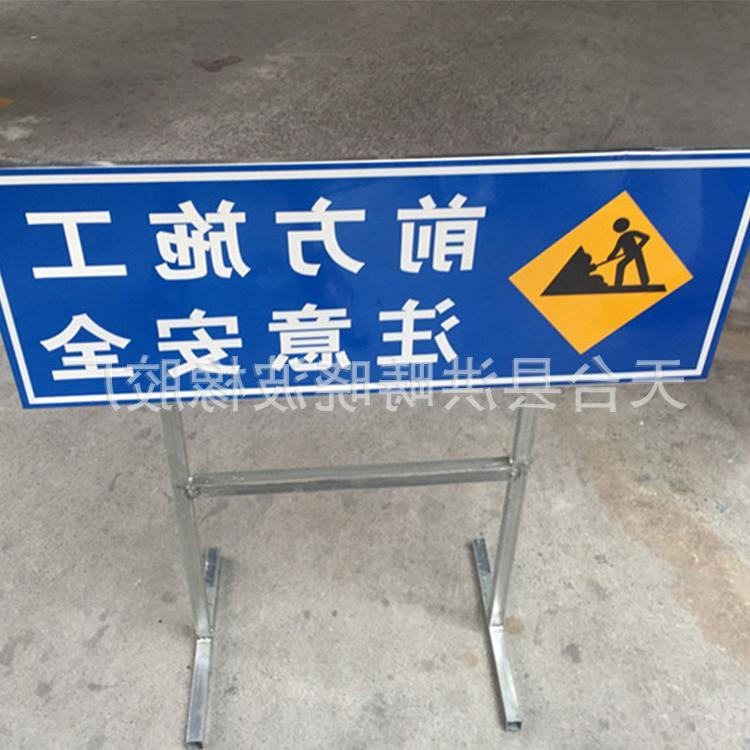sign: (3, 151, 748, 423)
